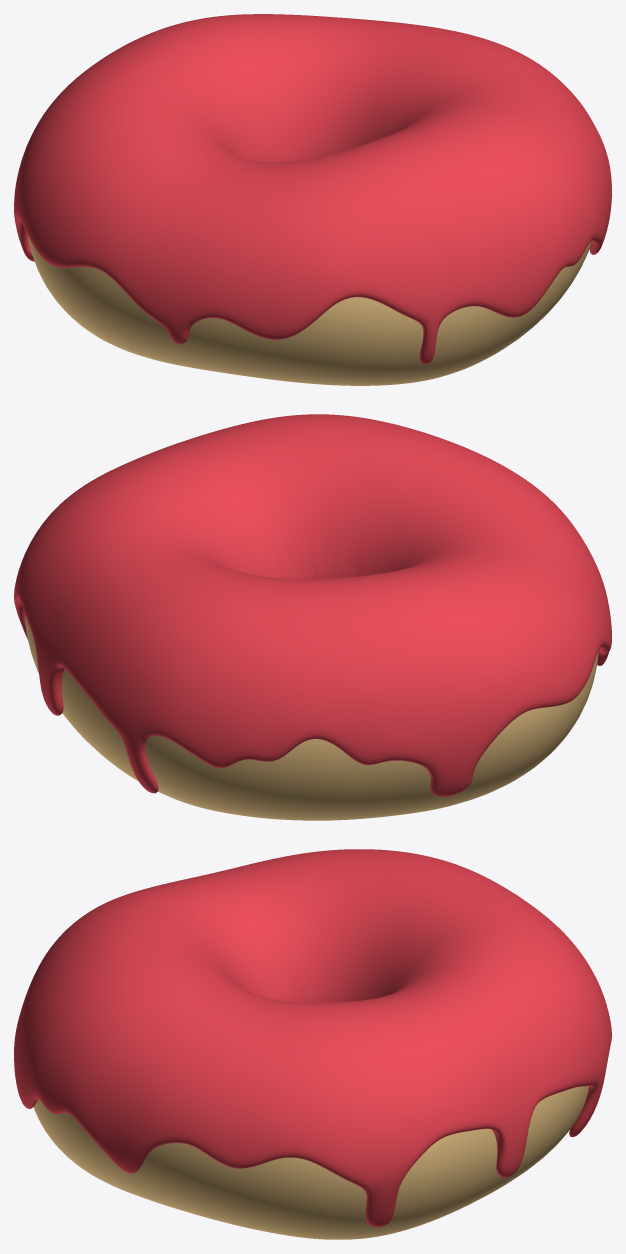
The model's file is ciambella.gltf.
3 renders of one model, top to bottom at view 1: azimuth 30°, elevation 25°; view 2: azimuth 150°, elevation 25°; view 3: azimuth 270°, elevation 25°, orthographic. The views are drawn at different scales.
Parts seen in each view (by area): view 1: topping, ciambella; view 2: topping, ciambella; view 3: topping, ciambella.
Boxes of the visible parts, left/top/right/bottom form: topping: left=14, top=14, right=611, bottom=364; ciambella: left=27, top=235, right=590, bottom=385; topping: left=14, top=414, right=611, bottom=796; ciambella: left=25, top=615, right=598, bottom=820; topping: left=14, top=849, right=611, bottom=1227; ciambella: left=33, top=1086, right=588, bottom=1239.
Bounding box in the file's own units: 0.108 × 0.0449 × 0.1052.
